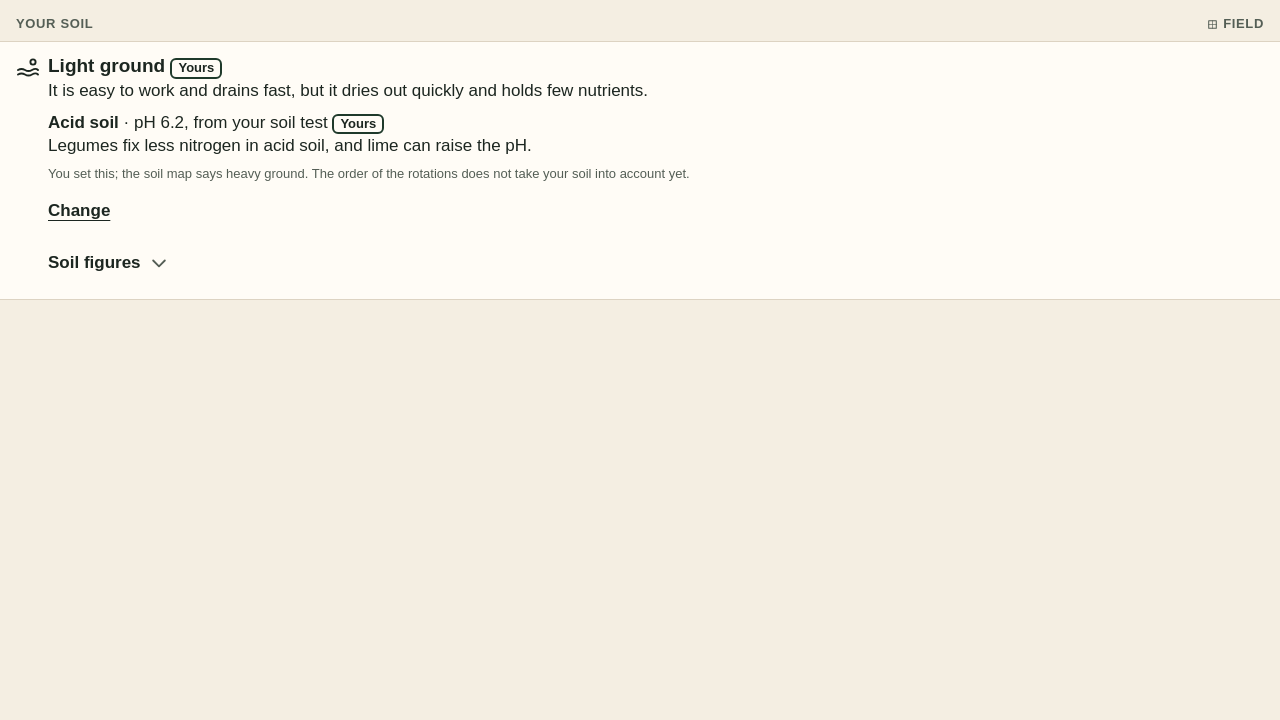
Test: the farmer's own soil › the card shows the farmer's soil, marked as theirs, and Change lets them pick another or go back to the map
Check: the element with test id "soil-kind" shows "Light ground", box top-left (48, 55), bottom-right (165, 76)
Check: the element with test id "soil-kind" shows "Yours", box top-left (178, 60), bottom-right (214, 75)
Step 1. Click the button with test id "soil-edit" → click(79, 211), box top-left (48, 187), bottom-right (110, 235)
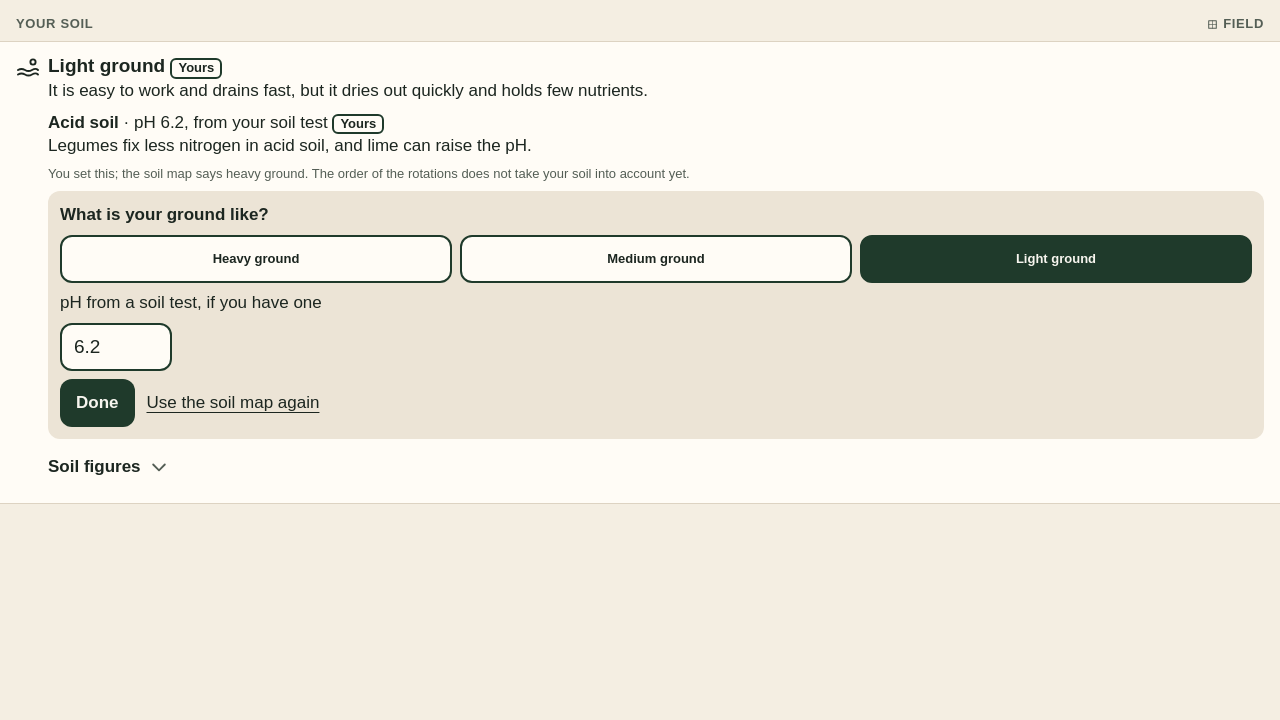
Step 2. Click the button with test id "soil-reset" → click(233, 403), box top-left (146, 381), bottom-right (319, 425)
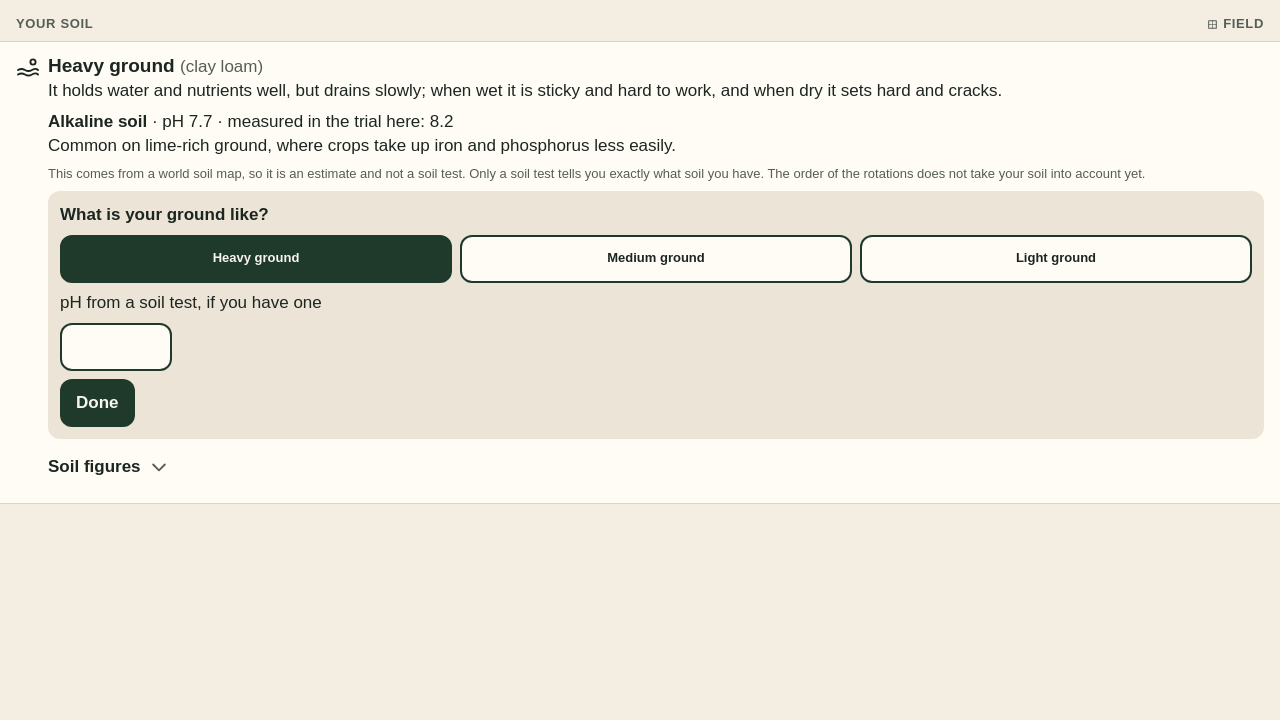
Check: the element with test id "soil-kind" shows "Heavy ground", box top-left (48, 55), bottom-right (175, 76)
Check: the element with test id "soil-kind" no longer shows "Yours", box top-left (48, 55), bottom-right (263, 76)
